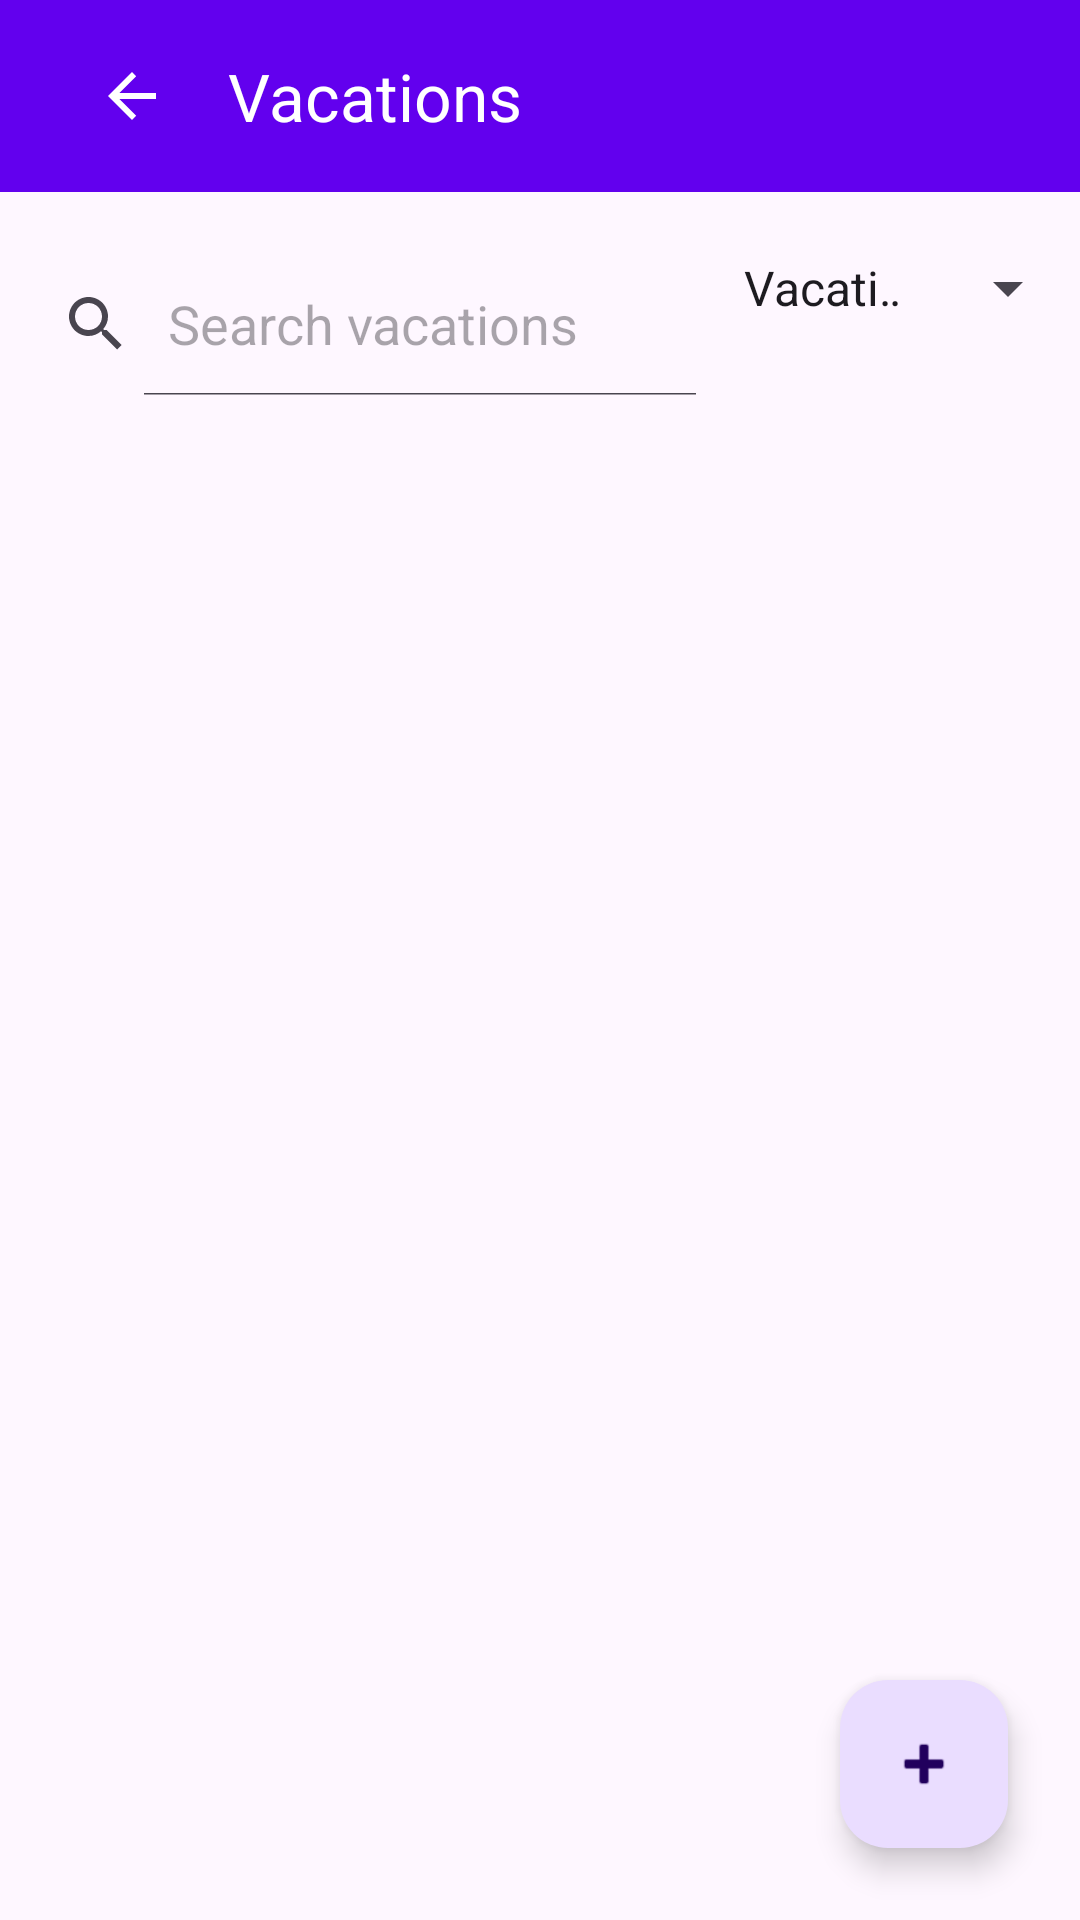

Locate icon controls on the screen. Image size 1080*1920, boxes as (x1=x1, y1=y1, x2=x2, y2=y2).
Add Vacation: (x1=840, y1=1680, x2=1008, y2=1848)
